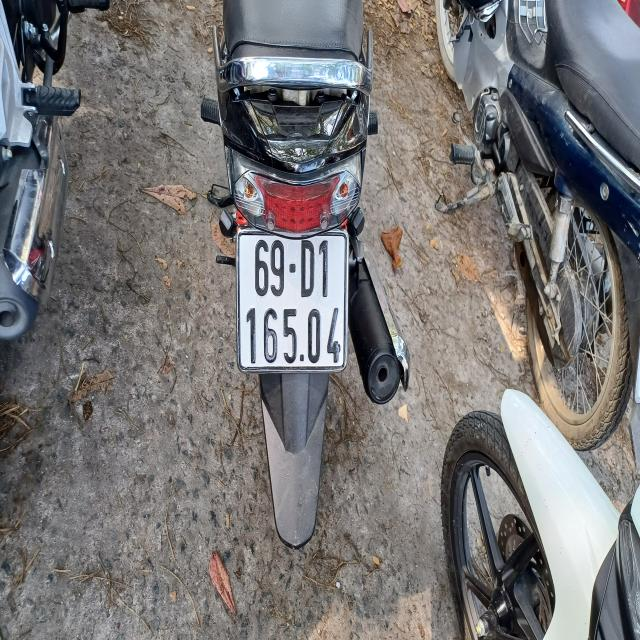0: (306, 307, 322, 364)
1: (246, 309, 258, 367), (318, 235, 329, 298)
4: (326, 306, 343, 364)
5: (283, 305, 298, 364)
6: (252, 237, 268, 299), (262, 310, 278, 364)
9: (268, 237, 285, 299)
D: (300, 239, 317, 299)
